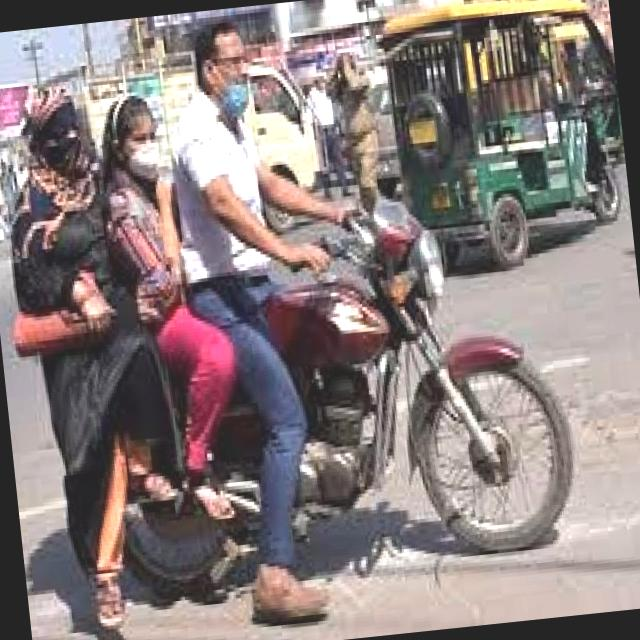motorcycle: (0, 160, 603, 640)
person: (111, 11, 314, 476), (0, 71, 161, 545), (82, 78, 214, 441)
